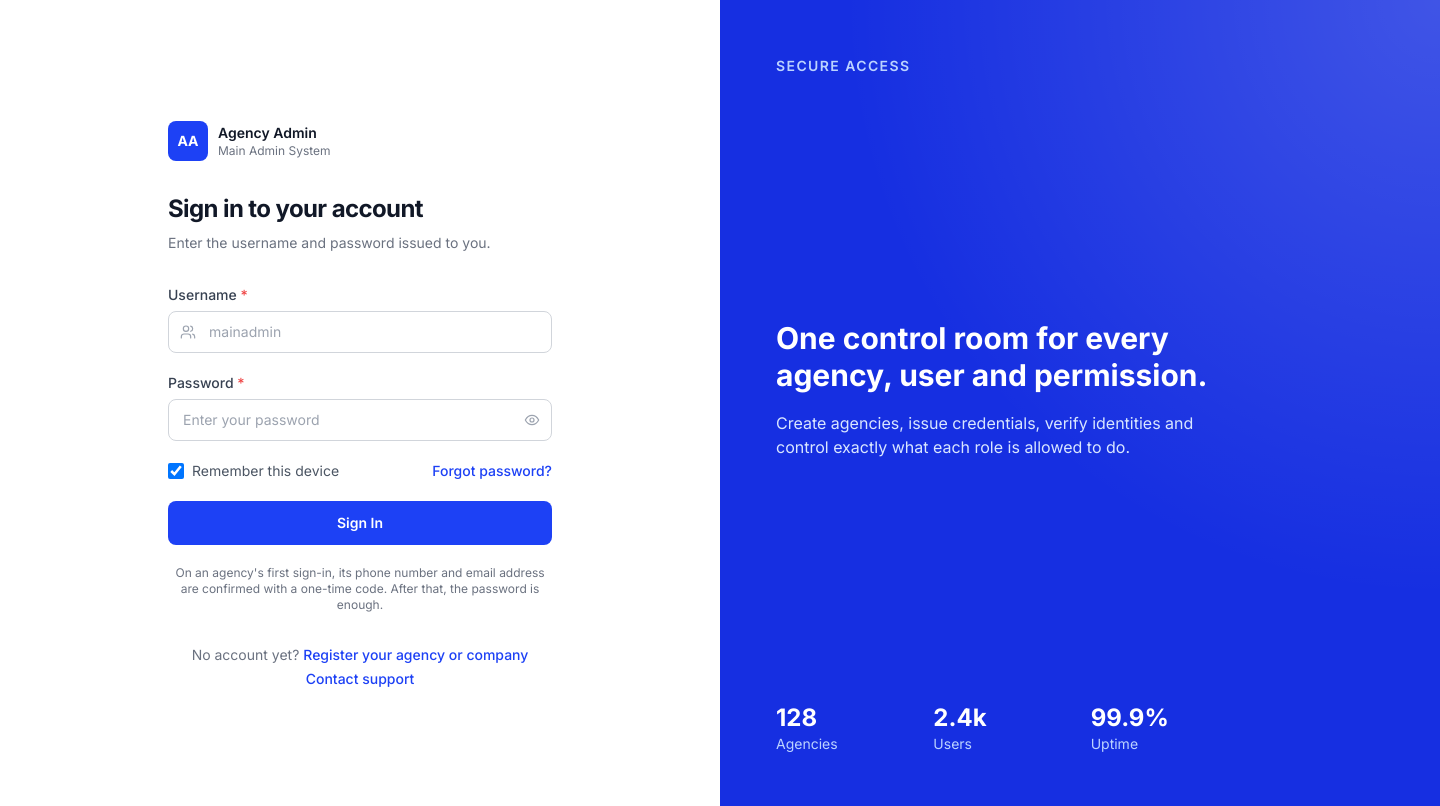
Test case: stale session from an earlier sign-in › still forces the email step instead of jumping to the dashboard
The width and height of the screenshot is (1440, 806).
Type "main.admin" into the field labelled "Username *" at (360, 332), box [168,311,552,353]
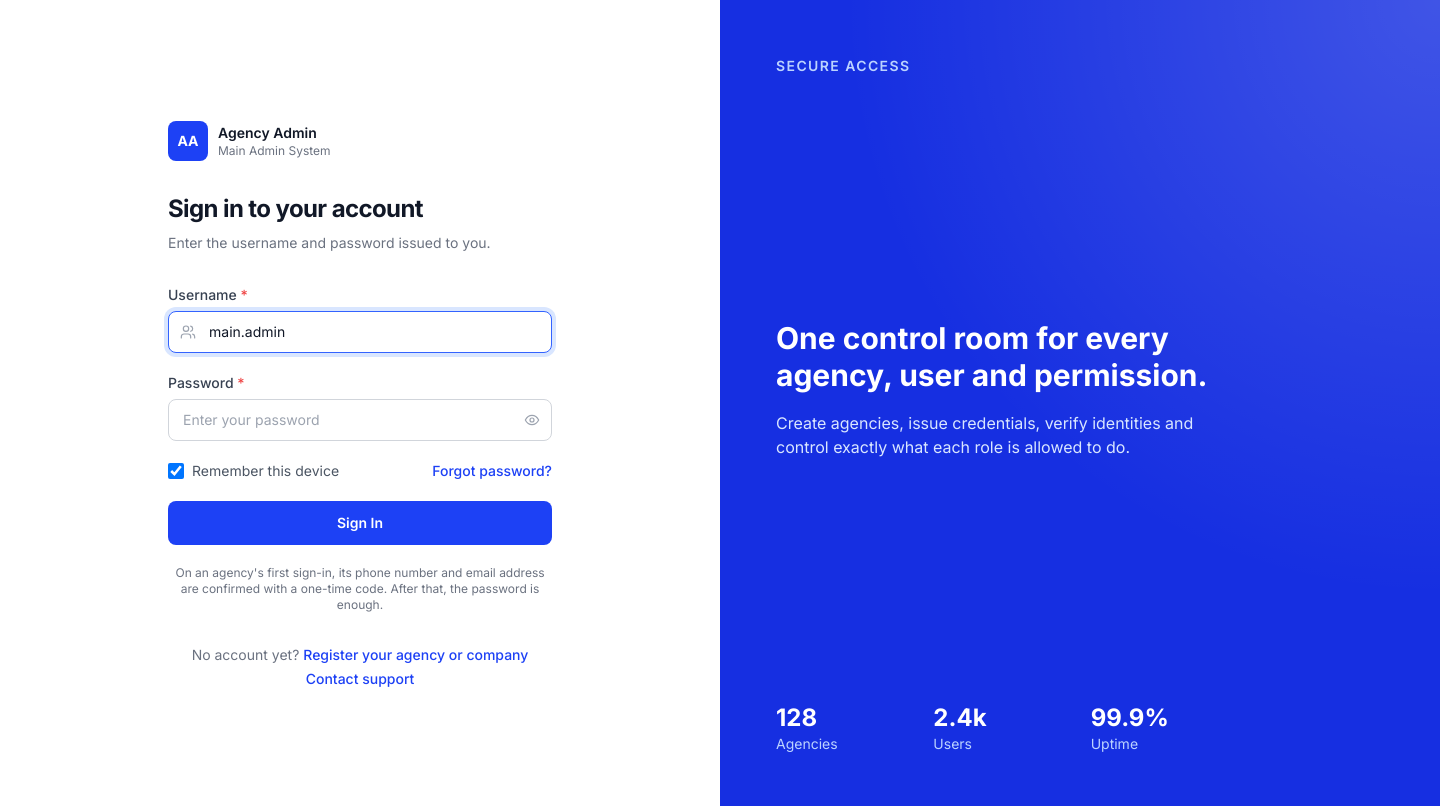
Type "secret123" into the password field labelled "Password *" at (360, 420), box [168,399,552,441]
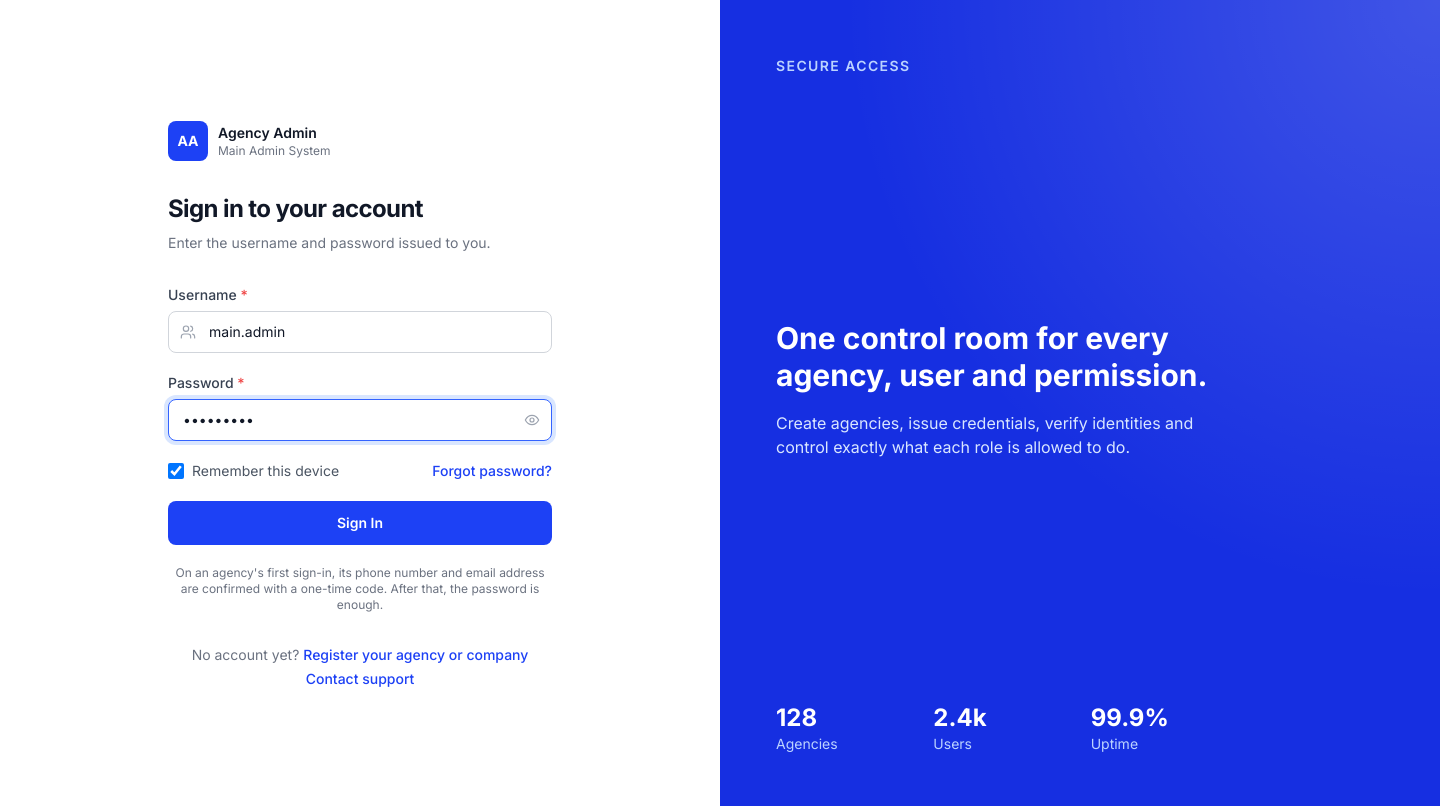
Click the button "Sign In" at (360, 523), box [168,501,552,545]
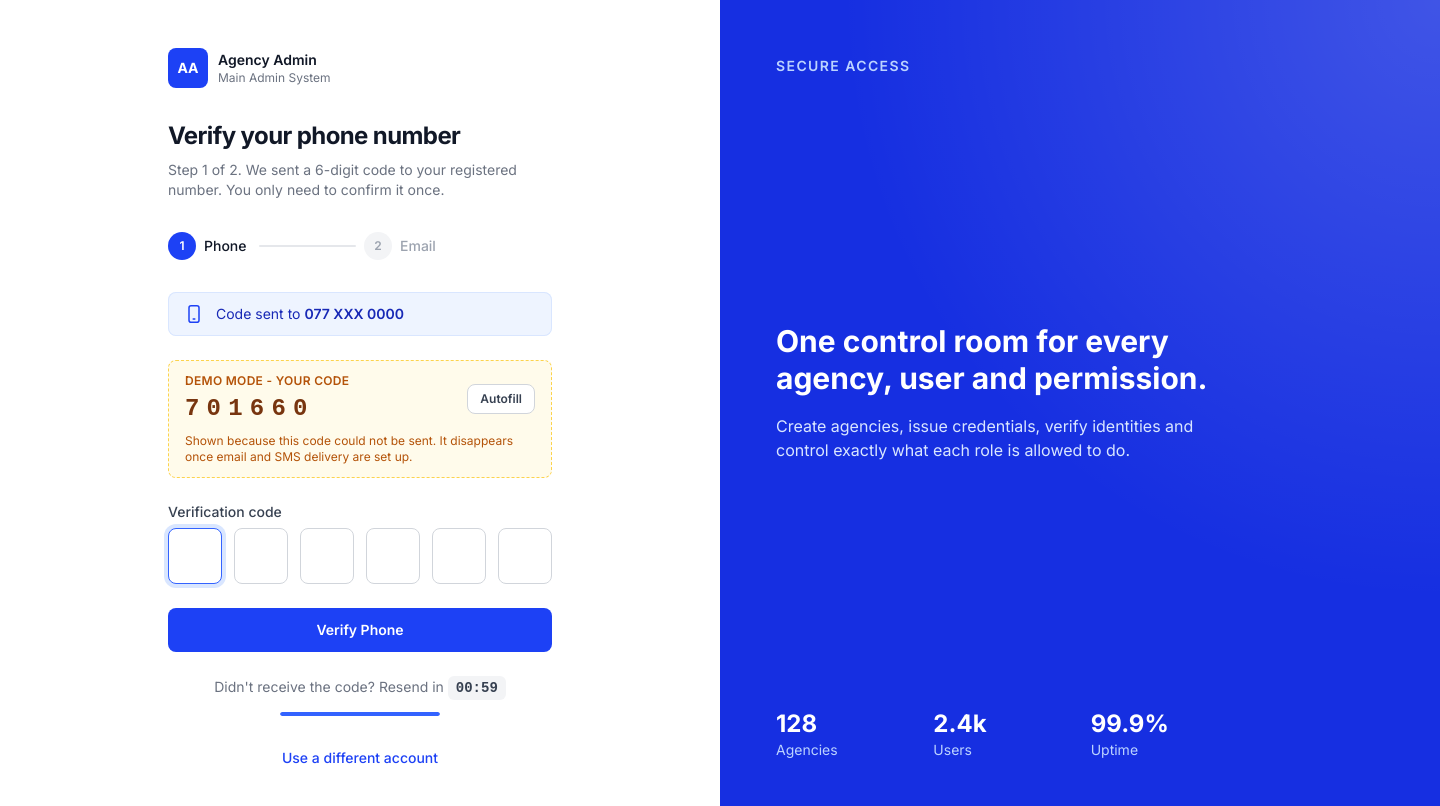
Expected: the heading "Verify your phone number" is shown, [168,121,460,150]
Click the button "Autofill" at (501, 399), box [467,384,535,414]
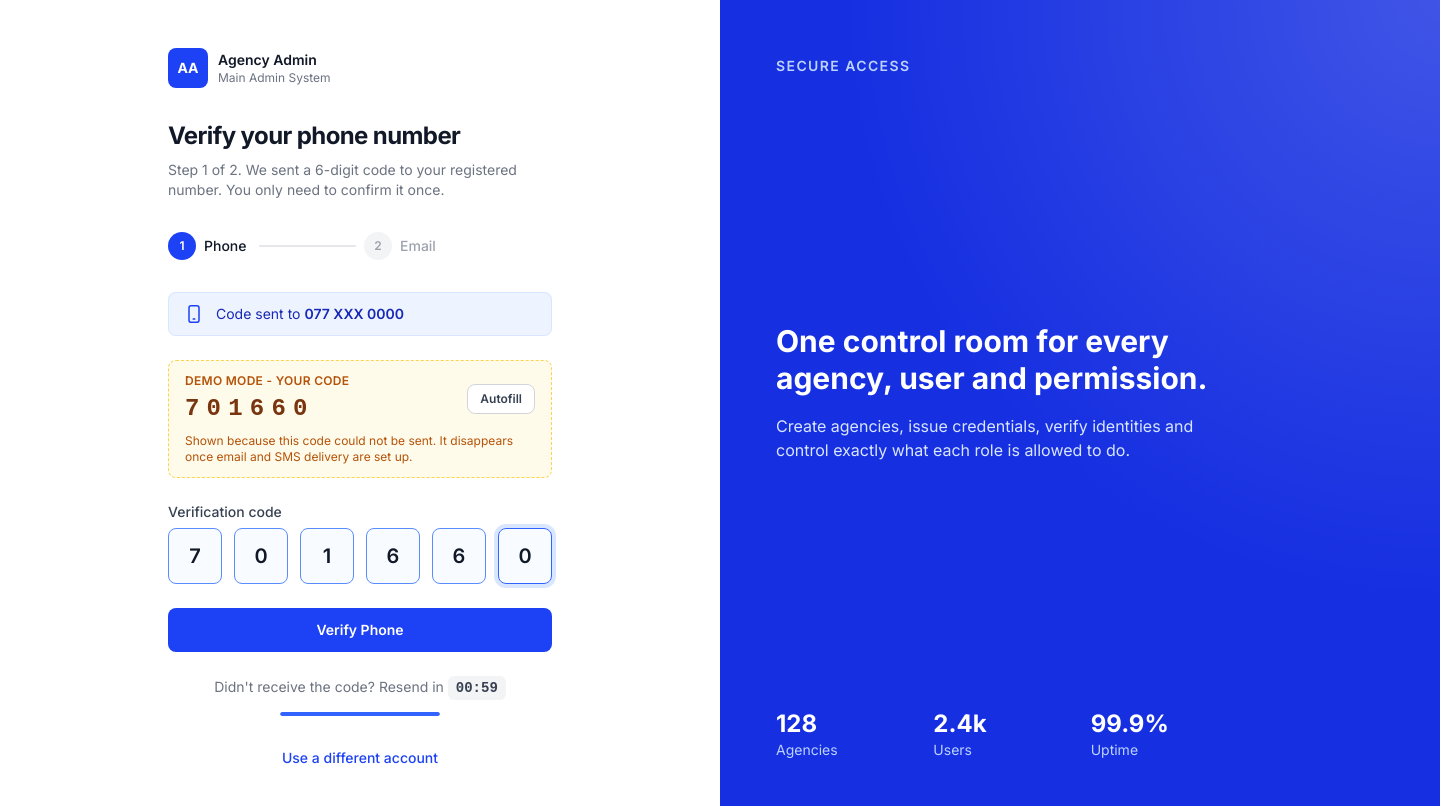
Click the button "Verify Phone" at (360, 630), box [168,608,552,652]
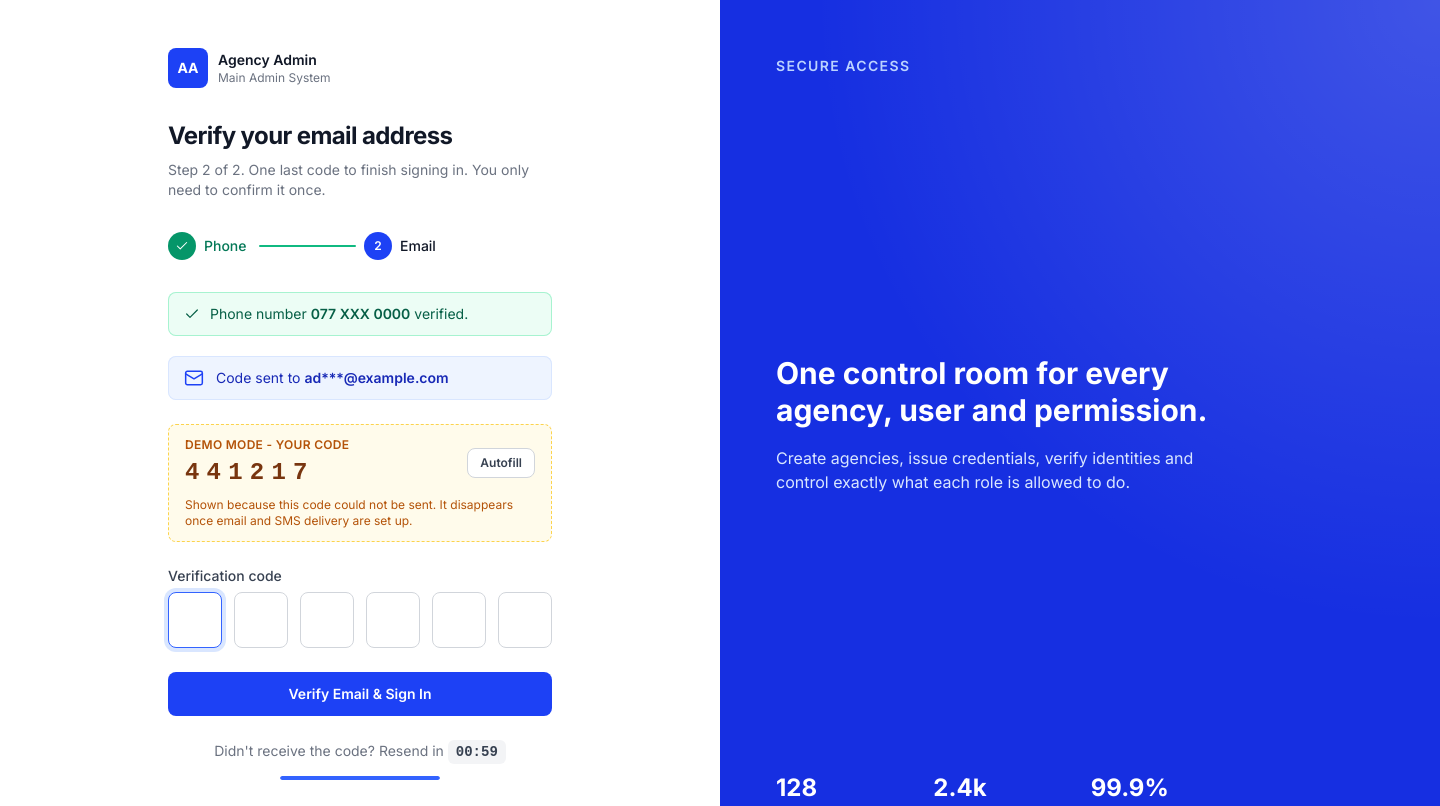
Expected: the heading "Verify your email address" is shown, [168,121,452,150]
